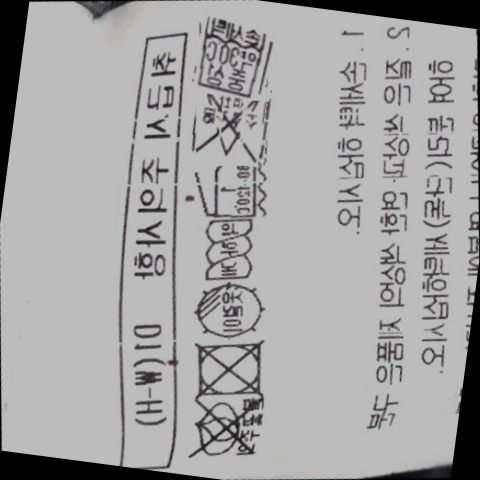DN_tumble_dry: (185, 331, 277, 405)
hand_wash: (190, 18, 276, 97)
iron_low: (193, 157, 267, 224)
line_dry_in_shade: (186, 277, 272, 343)
wring: (198, 214, 262, 287)
